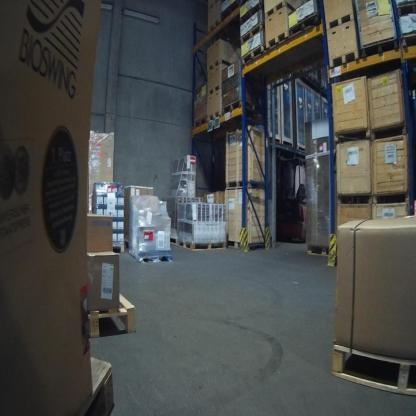forklift: (276, 155, 307, 246)
pallet: (331, 342, 415, 397), (85, 291, 138, 339), (82, 354, 115, 416), (287, 11, 322, 41), (361, 35, 399, 60), (328, 48, 359, 69), (265, 0, 296, 20), (326, 11, 355, 31), (239, 2, 262, 26), (240, 22, 263, 46), (223, 98, 259, 113), (179, 239, 228, 250), (265, 30, 288, 50), (241, 45, 265, 63), (139, 252, 173, 264), (228, 240, 265, 250), (226, 181, 265, 190), (207, 58, 231, 72), (396, 1, 416, 17), (400, 29, 416, 46), (307, 246, 329, 258), (208, 17, 222, 34), (194, 114, 208, 129), (208, 109, 223, 121), (207, 0, 222, 11), (208, 84, 222, 95), (113, 244, 125, 254), (170, 236, 179, 246)
